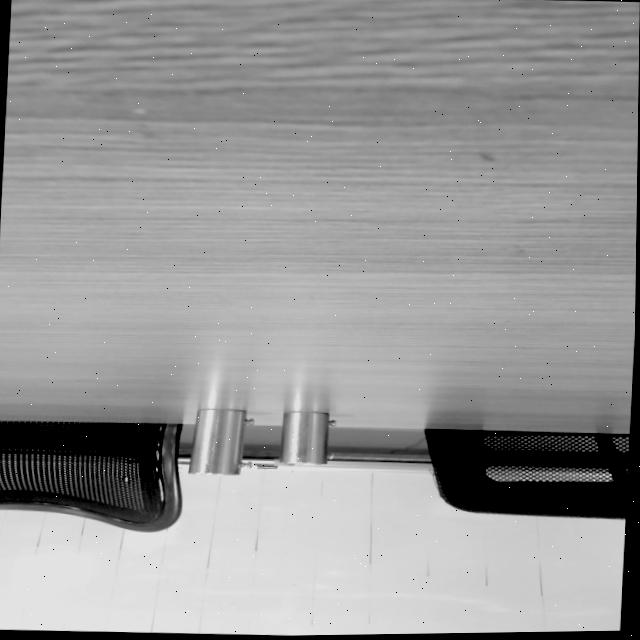Co_Lon: (189, 407, 255, 477)
Co_Nho: (278, 409, 338, 467)
